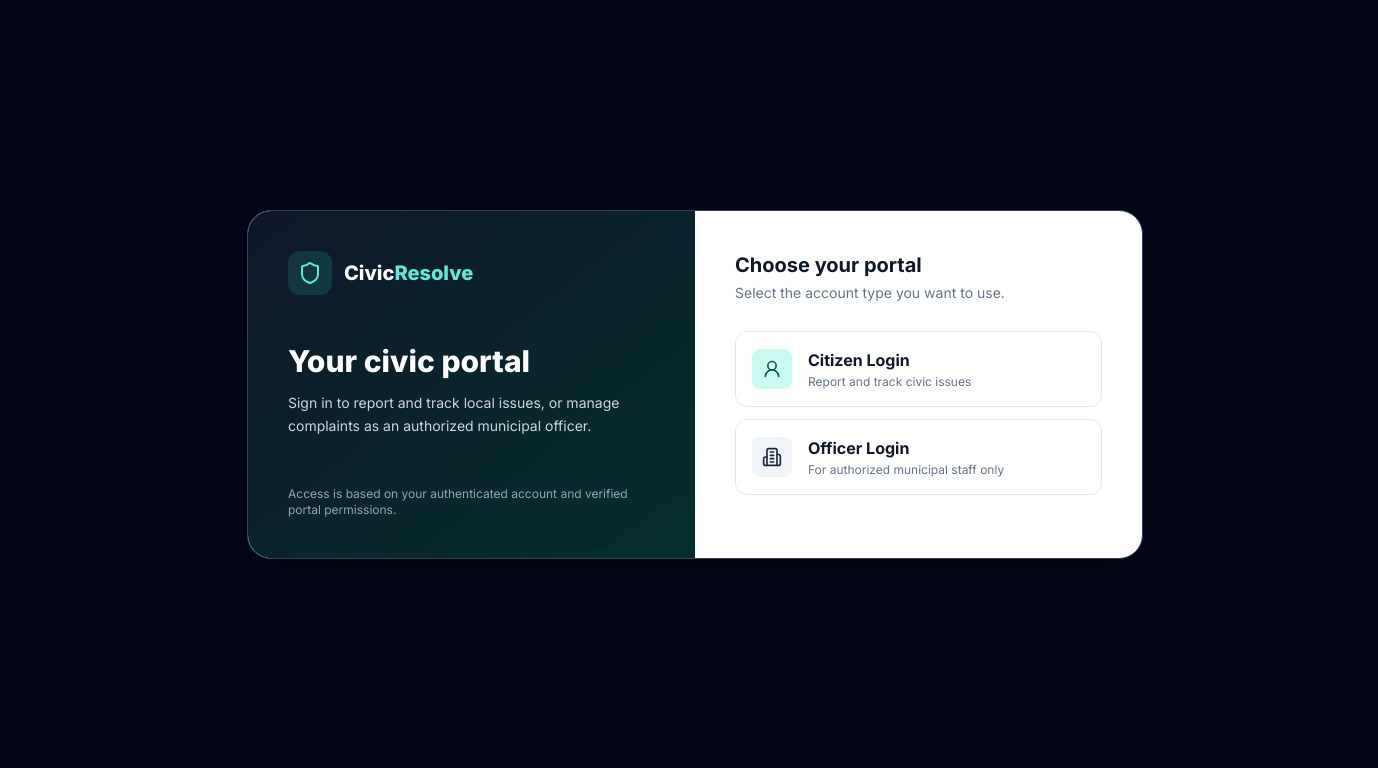
Test: LoginPage portal selection and role routing › routes an authenticated citizen to the citizen dashboard
The width and height of the screenshot is (1378, 768).
Click the button "Citizen Login Report and track civic issues" at {"x": 772, "y": 368}, box [735,330,1102,406]
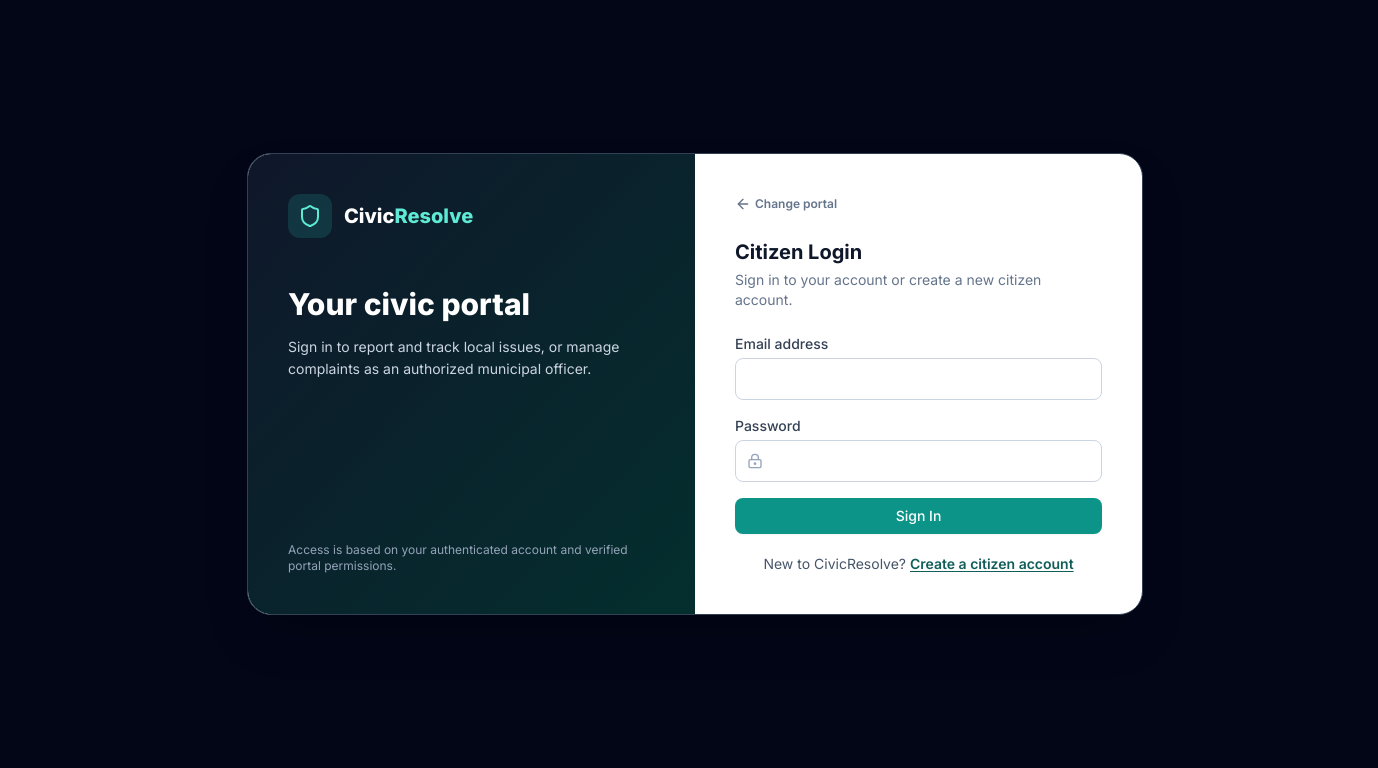
Type "citizen@example.com" into the field labelled "Email address" at {"x": 918, "y": 379}, box [735,358,1102,400]
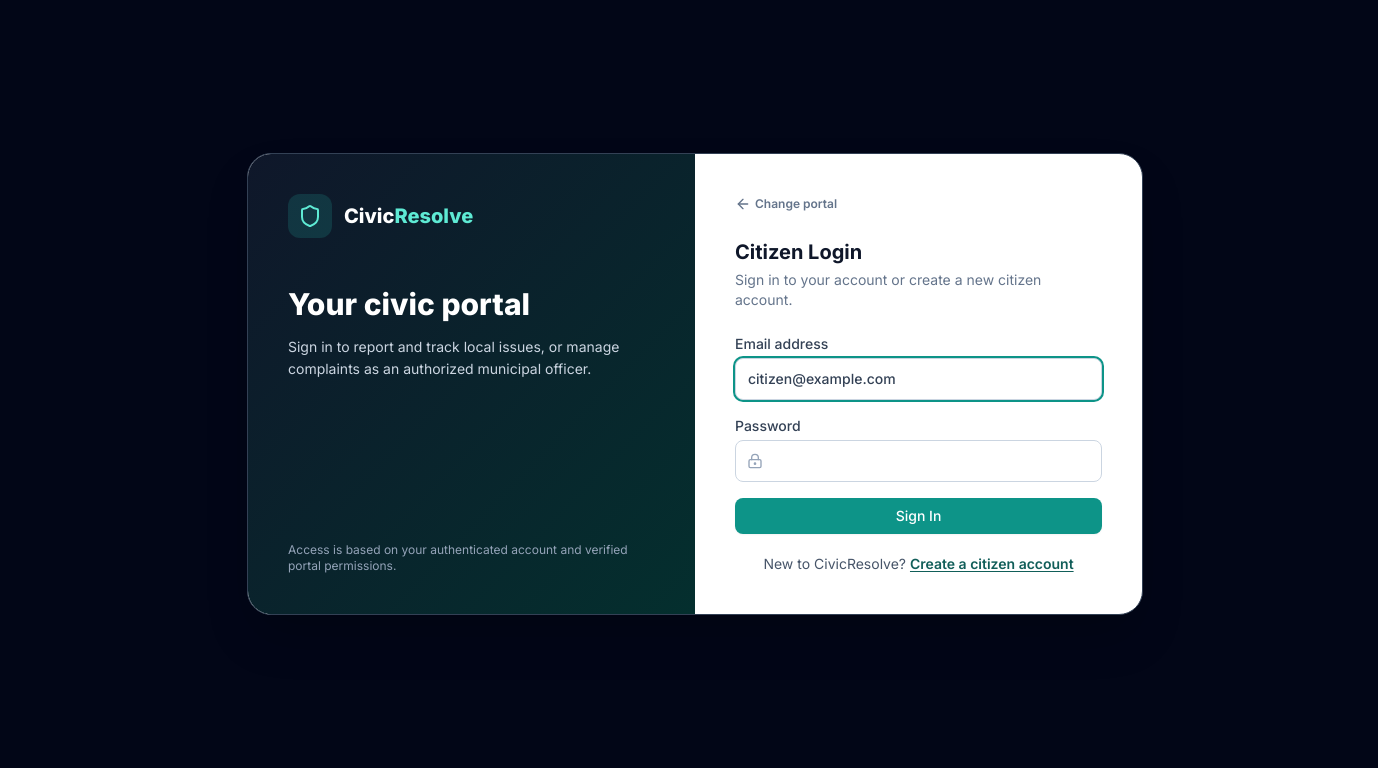
Type "secret123" into the password field labelled "Password" at {"x": 918, "y": 461}, box [735,440,1102,482]
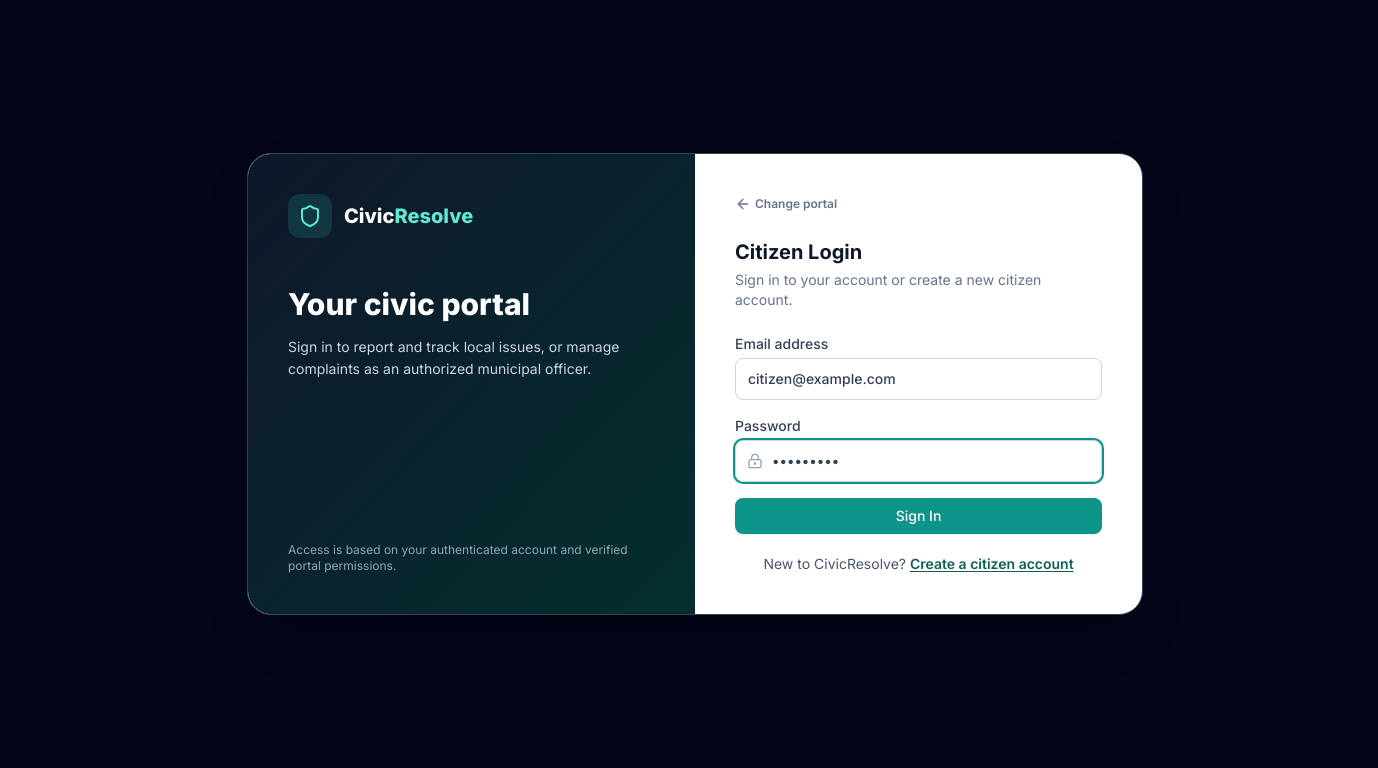
Click the button "Sign In" at {"x": 918, "y": 516}, box [735,498,1102,534]
(page scrolled)
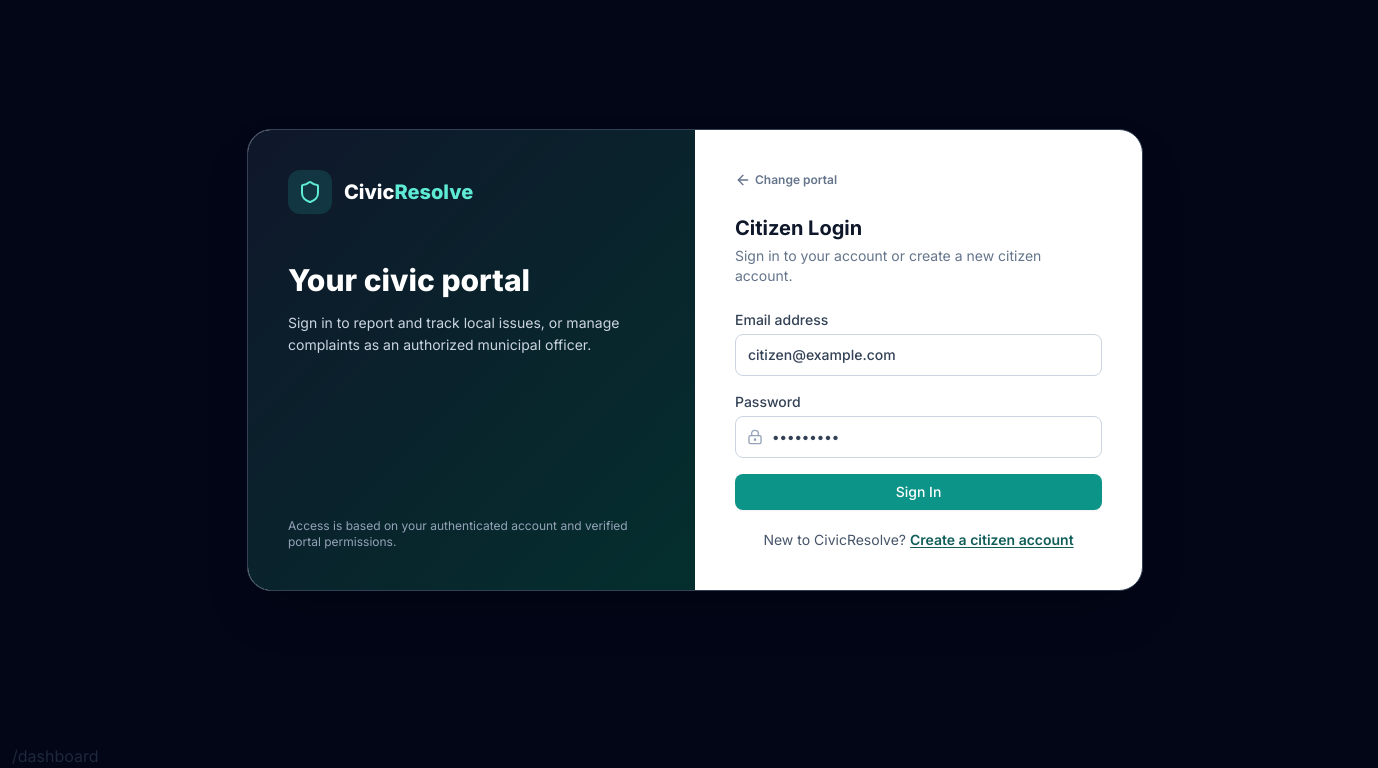
Now the text with test id "route" reads "/dashboard", box [12,746,98,766]
